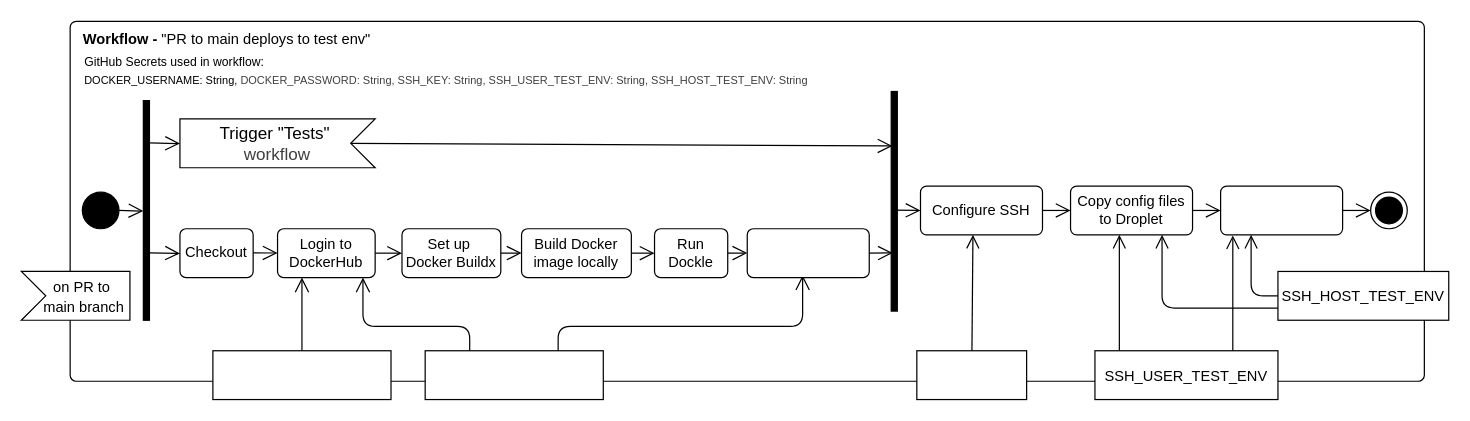
Image size: 1470x421. Some labels were removed from this diagram. The centre of each missing label's shape, as x and y in pixels:
Build and push minitwit-dev image: (x=807, y=253)
Deploy to test-server: (x=1281, y=210)
DOCKER_PASSWORD: (x=513, y=375)
DOCKER_USERNAME: (x=301, y=375)
SSH_KEY: (x=971, y=375)
